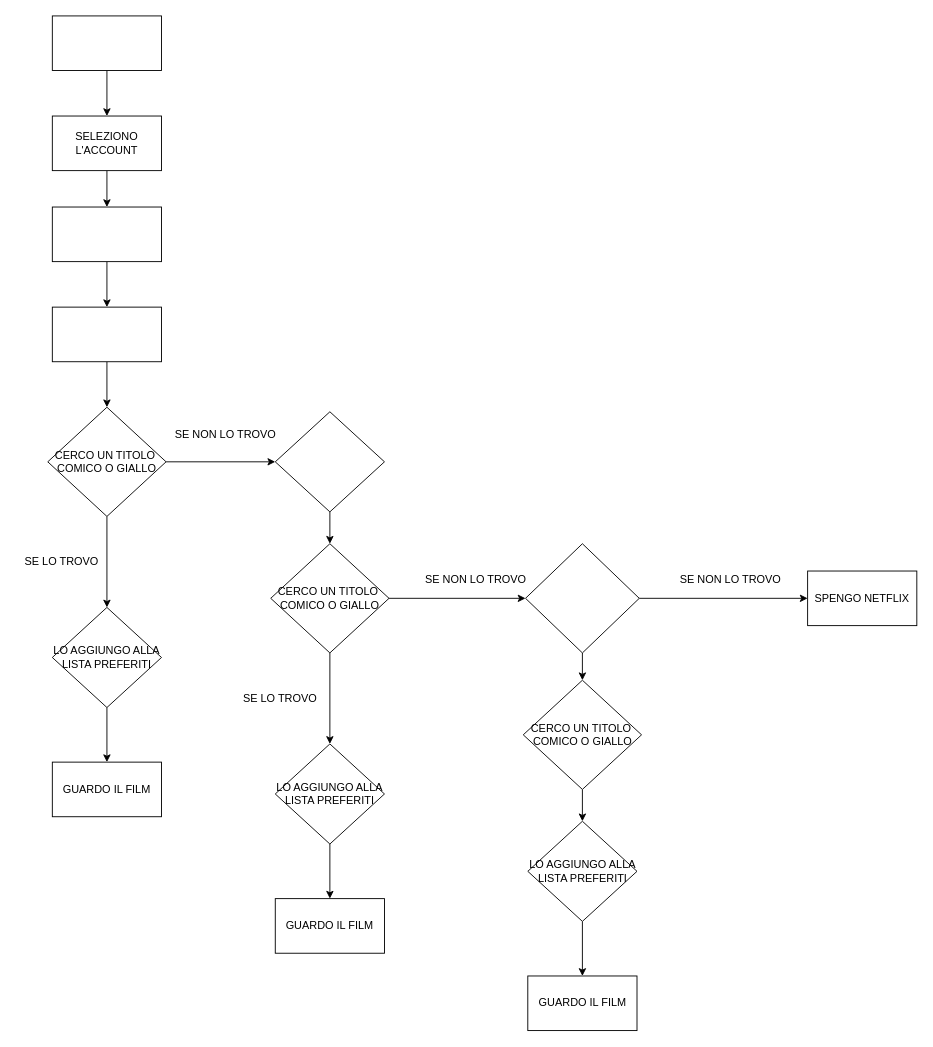
Image size: 933x1047. Some labels were removed from this diagram. The shapes that lost their labels are listed below. From the top down, each one's centre as x and y in pixels, then its label:
point (106, 43): APRO NETFLIX
point (106, 234): SCORRO LE TRE SEZIONI
point (106, 334): GUARDO NELLA SEZIONE "I PIU' VISTI"
point (329, 461): GUARDO NELLA SEZIONE "I PIU' VOTATI"
point (582, 598): SCORRO LA TERZA SEZIONE
